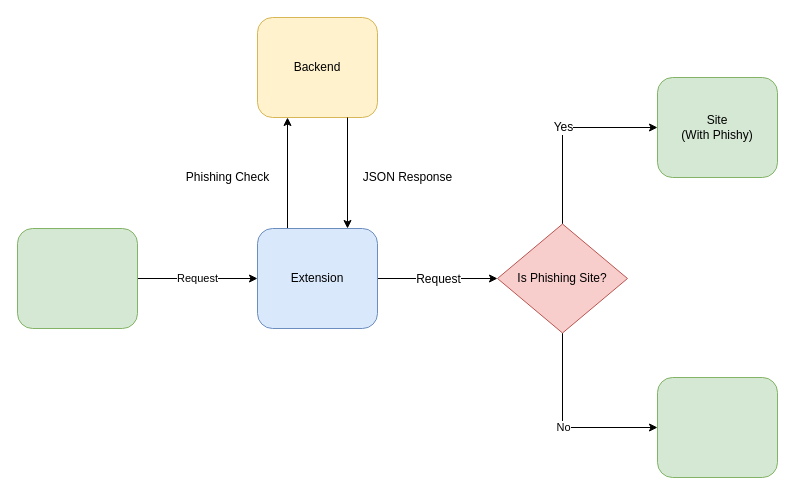
Some shapes in this 795 by 495 pixel diagram are drawn without their labels. Each missing label, with the centre of its shape:
"Browser" belongs at (x=77, y=278).
"Site (Without Phishy)" belongs at (x=717, y=427).
